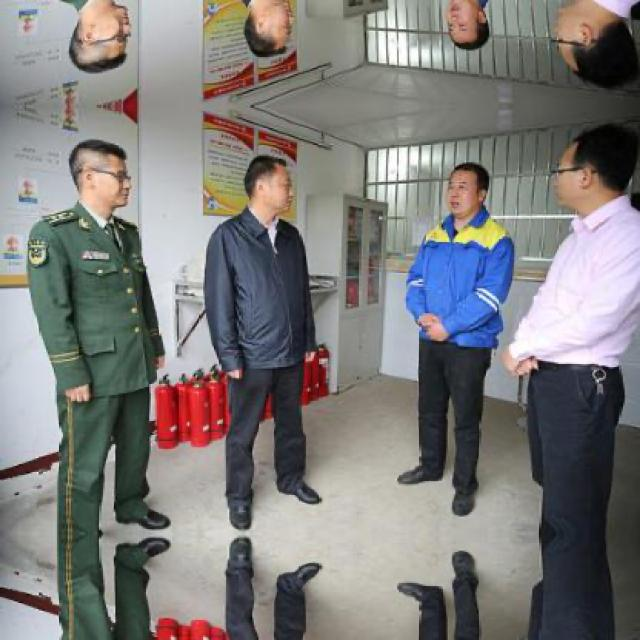sin casco: (548, 128, 640, 216), (62, 134, 143, 232), (414, 164, 508, 227), (253, 138, 303, 214)
